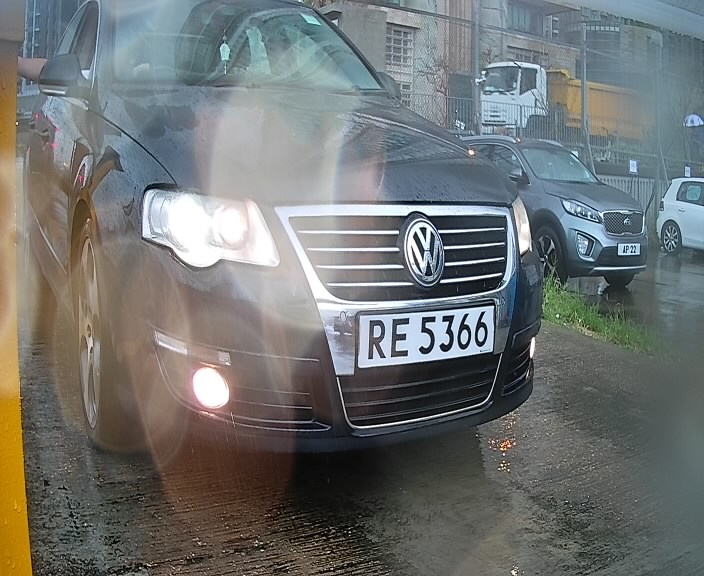Car: (50, 1, 583, 511)
License Plate: (344, 297, 498, 375)
